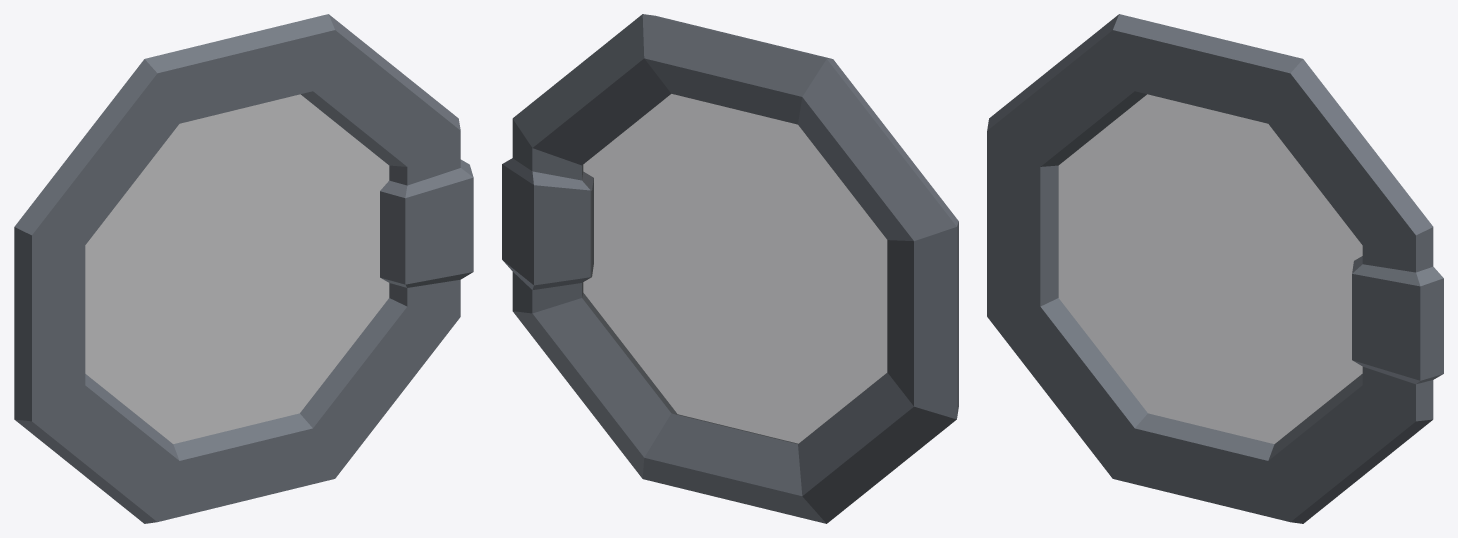
File: SM_Prop_Laundry_Washer_Door_01.fbx
3 views of the same model, side by side, from view 1: azimuth 30°, elevation 25°; view 2: azimuth 150°, elevation 25°; view 3: azimuth 330°, elevation 25° (orthographic).
Visible parts, largest first — view 1: SM_Prop_Laundry_Washer_Door_01; view 2: SM_Prop_Laundry_Washer_Door_01; view 3: SM_Prop_Laundry_Washer_Door_01.
Boxes of the visible parts, x1,y1,x2,y2 form: SM_Prop_Laundry_Washer_Door_01: (14, 14, 473, 523); SM_Prop_Laundry_Washer_Door_01: (502, 14, 958, 523); SM_Prop_Laundry_Washer_Door_01: (987, 14, 1443, 523).
Bounding box in the file's own units: 64.66 × 63.14 × 7.3.
